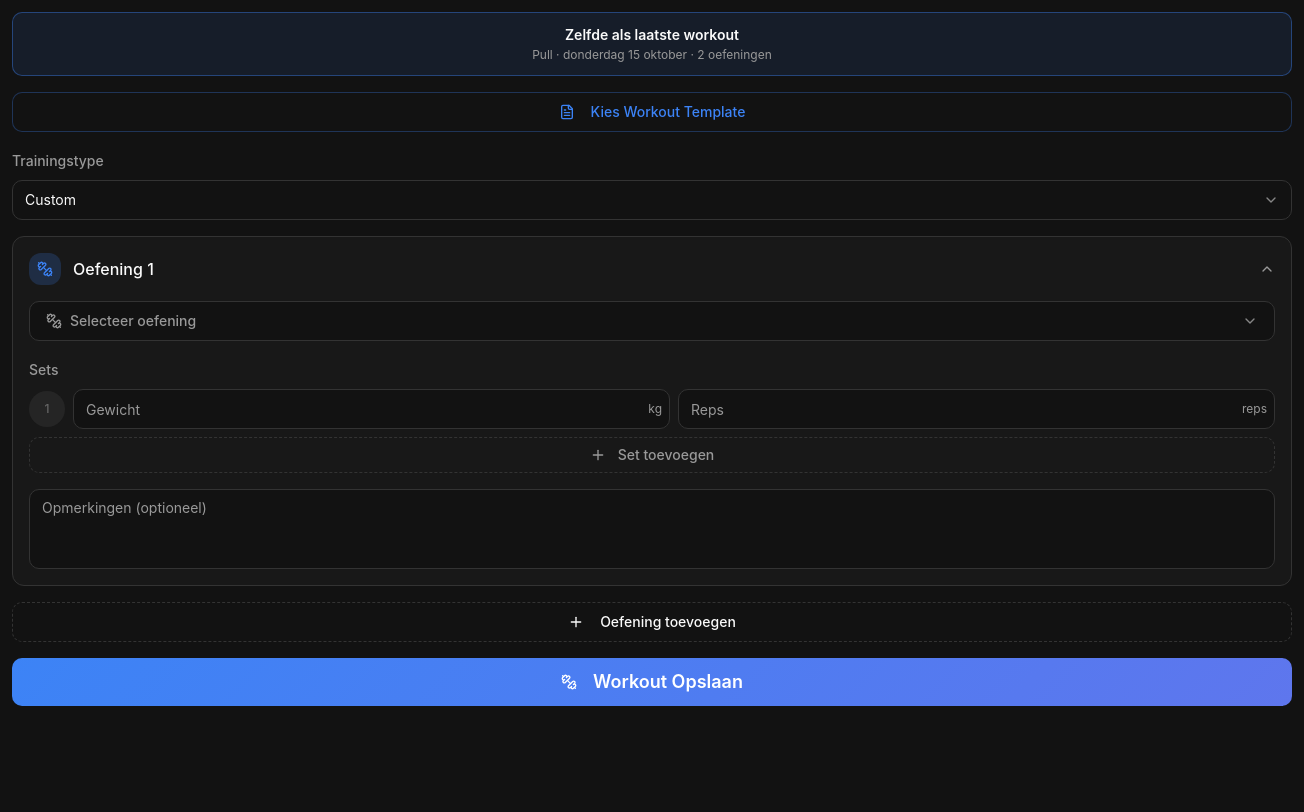
snelstart › verdwijnt zodra je zelf iets invult en in bewerkmodus
The image size is (1304, 812).
Expected: the button "Zelfde als laatste workout" is shown, [12,12,1292,76]
Type "20" into the number field with placeholder "Gewicht". click: (372, 409)
box: [73,389,670,429]
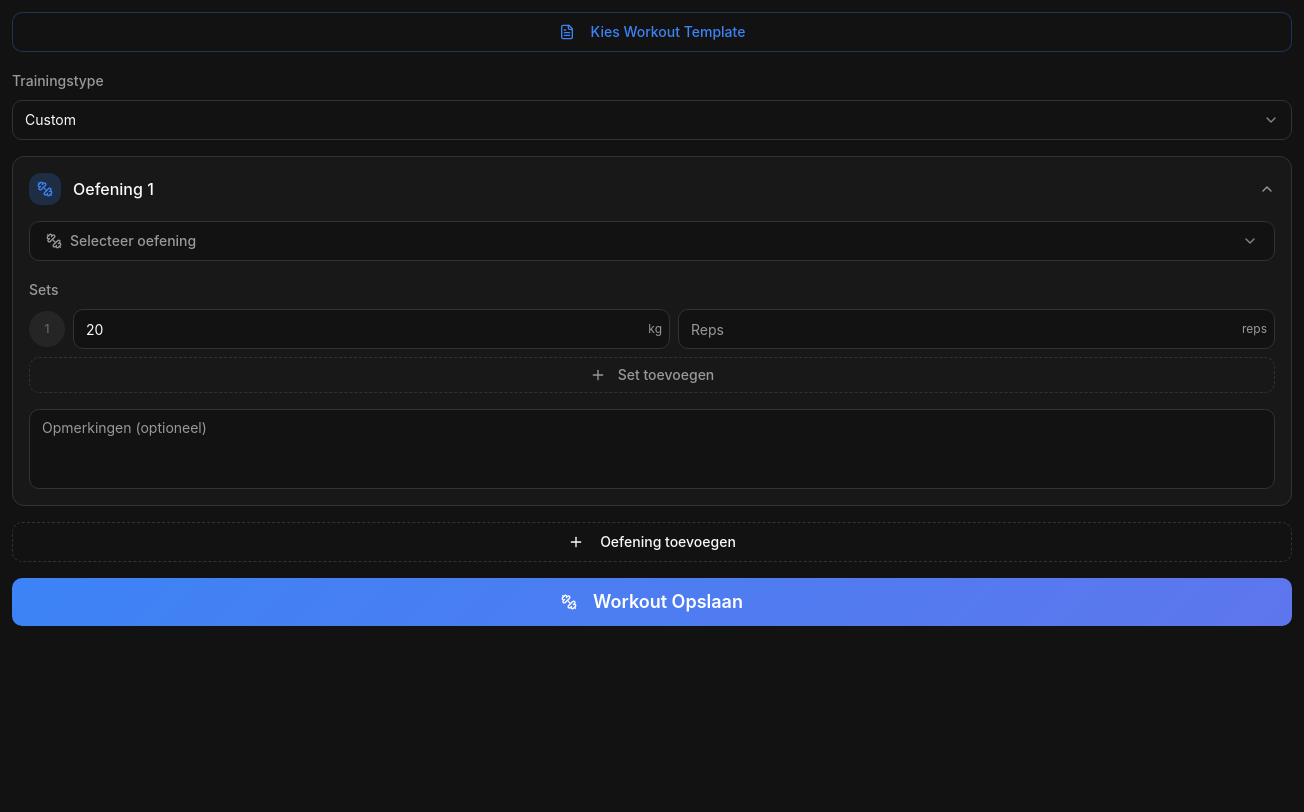
Expected: the button "Zelfde als" is gone
